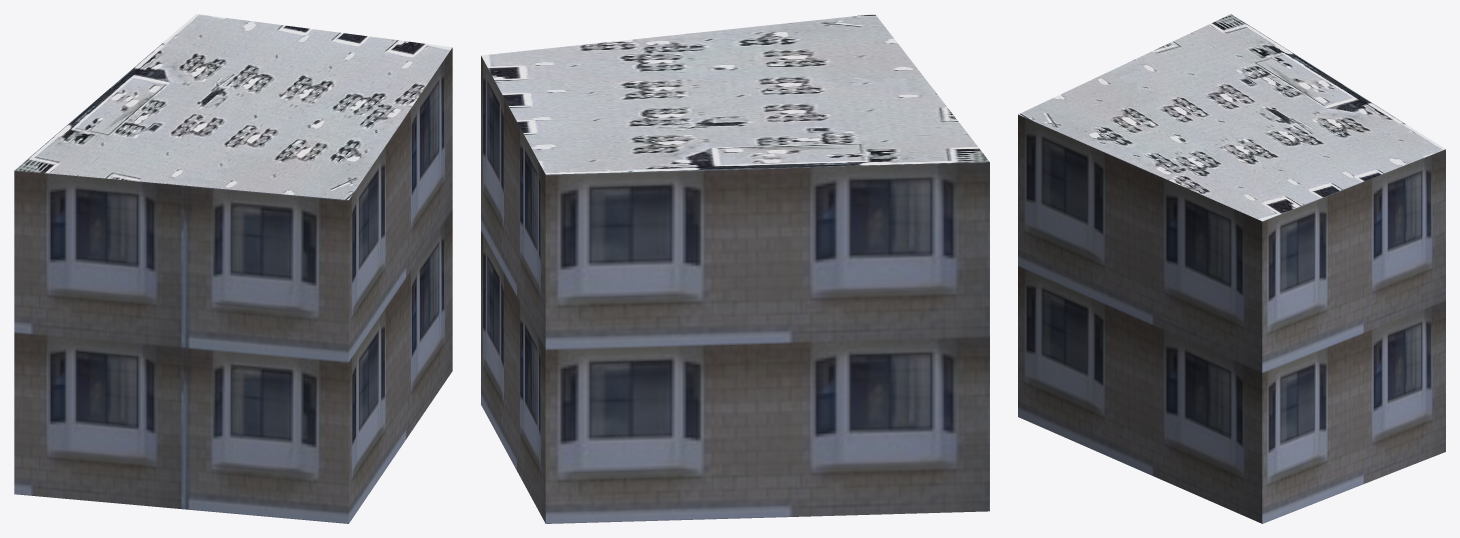
File: ResTex__4878.fbx
3 renders of one model, left to right at view 1: azimuth 30°, elevation 25°; view 2: azimuth 150°, elevation 25°; view 3: azimuth 270°, elevation 25°, orthographic. The views are drawn at different scales.
Visible parts, largest first — view 1: CityEngineMaterial_3_m, CityEngineMaterial_8_m; view 2: CityEngineMaterial_3_m, CityEngineMaterial_8_m; view 3: CityEngineMaterial_3_m, CityEngineMaterial_8_m.
Part boxes in pixels (<box>): CityEngineMaterial_3_m: <box>14,47,452,523</box>; CityEngineMaterial_8_m: <box>14,14,452,199</box>; CityEngineMaterial_3_m: <box>481,56,989,523</box>; CityEngineMaterial_8_m: <box>481,14,989,174</box>; CityEngineMaterial_3_m: <box>1018,114,1445,523</box>; CityEngineMaterial_8_m: <box>1018,14,1445,221</box>.
Bounding box in the file's own units: 8.82 × 6 × 7.69.
2 materials, 2 textured.
